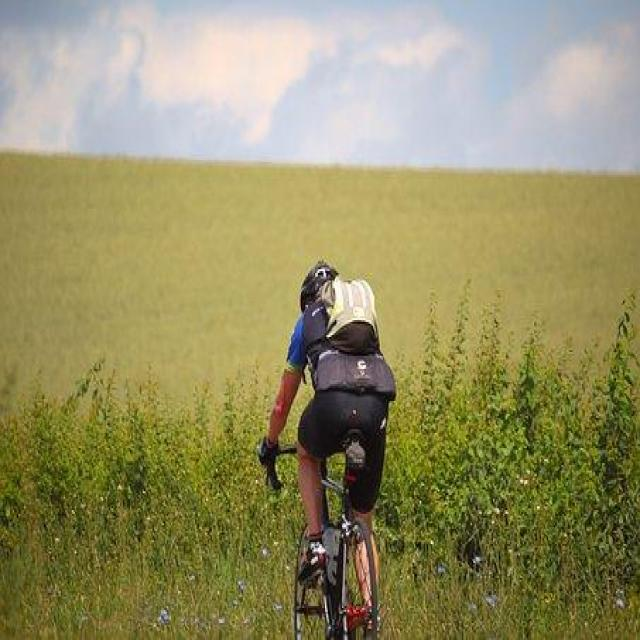bikerider: (263, 249, 408, 638)
